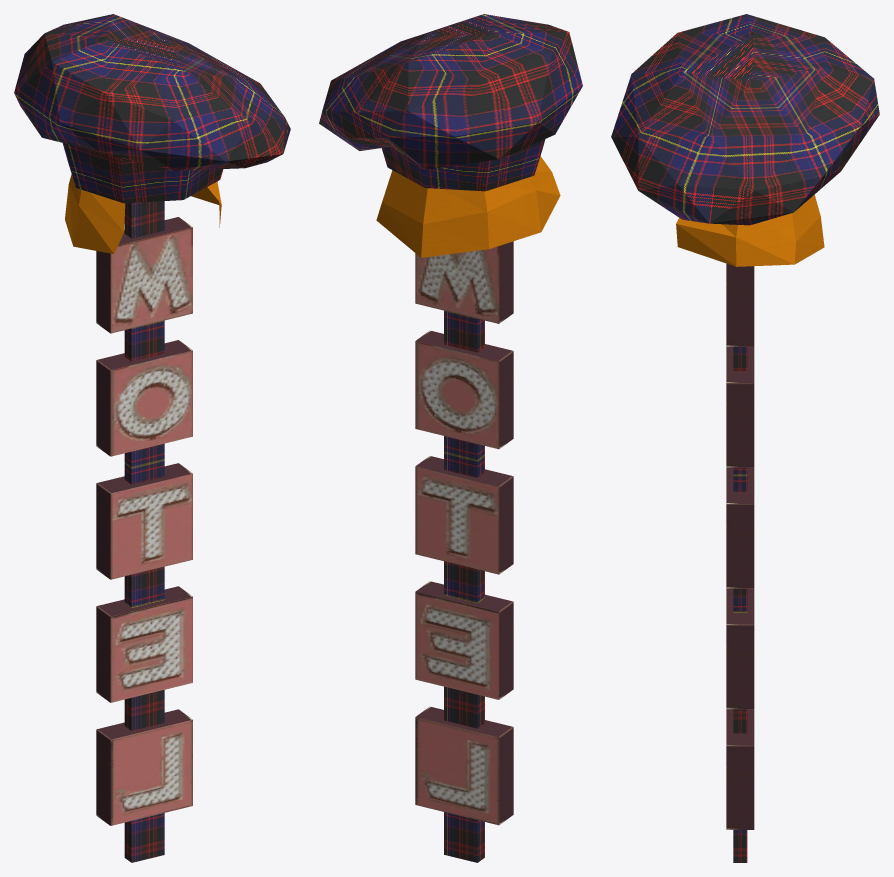
File: gingersign1.obj
3 renders of one model, left to right at view 1: azimuth 30°, elevation 25°; view 2: azimuth 150°, elevation 25°; view 3: azimuth 270°, elevation 25°, orthographic. The views are drawn at different scales.
Parts seen in each view (by area): view 1: gingersign1; view 2: gingersign1; view 3: gingersign1.
Boxes of the visible parts, x1,y1,x2,y2 form: gingersign1: (14,14,290,862); gingersign1: (319,14,582,862); gingersign1: (611,14,879,862).
Size of the model in its own units: 5.62 by 19.01 by 5.76.
3 materials, 3 textured.
